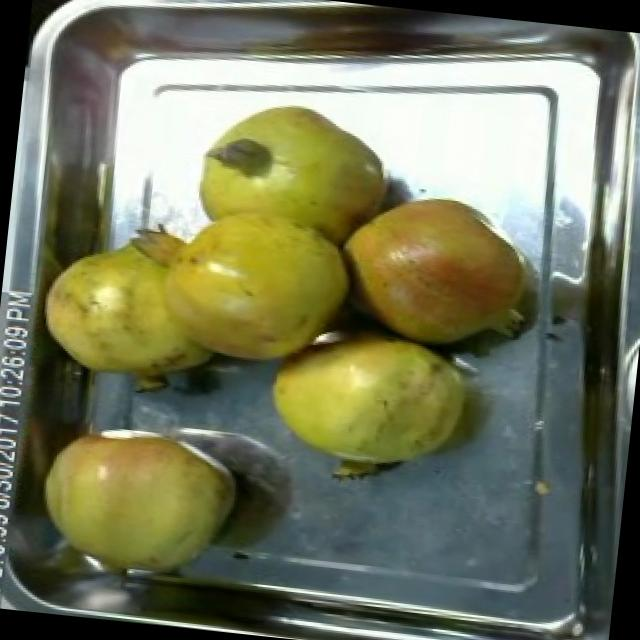fruit: (245, 308, 496, 512), (316, 172, 552, 360), (25, 405, 254, 585)
